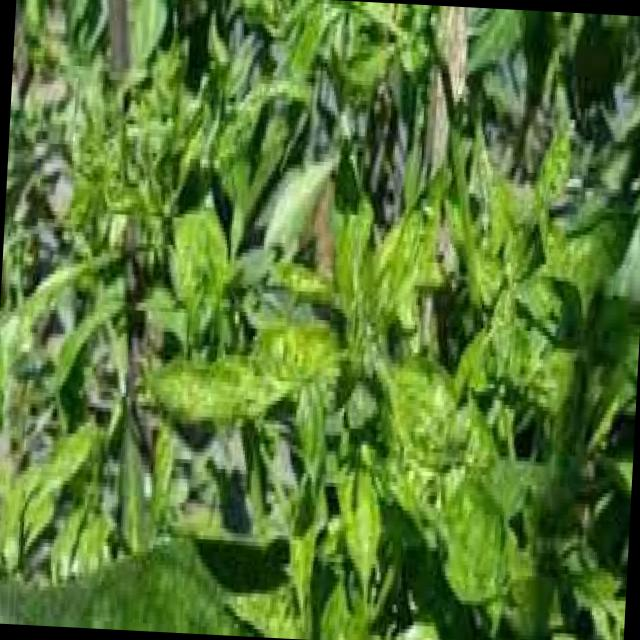Chilli_Leaf_Curl: (0, 0, 640, 640), (0, 0, 348, 600), (141, 303, 345, 436), (144, 342, 294, 430)
